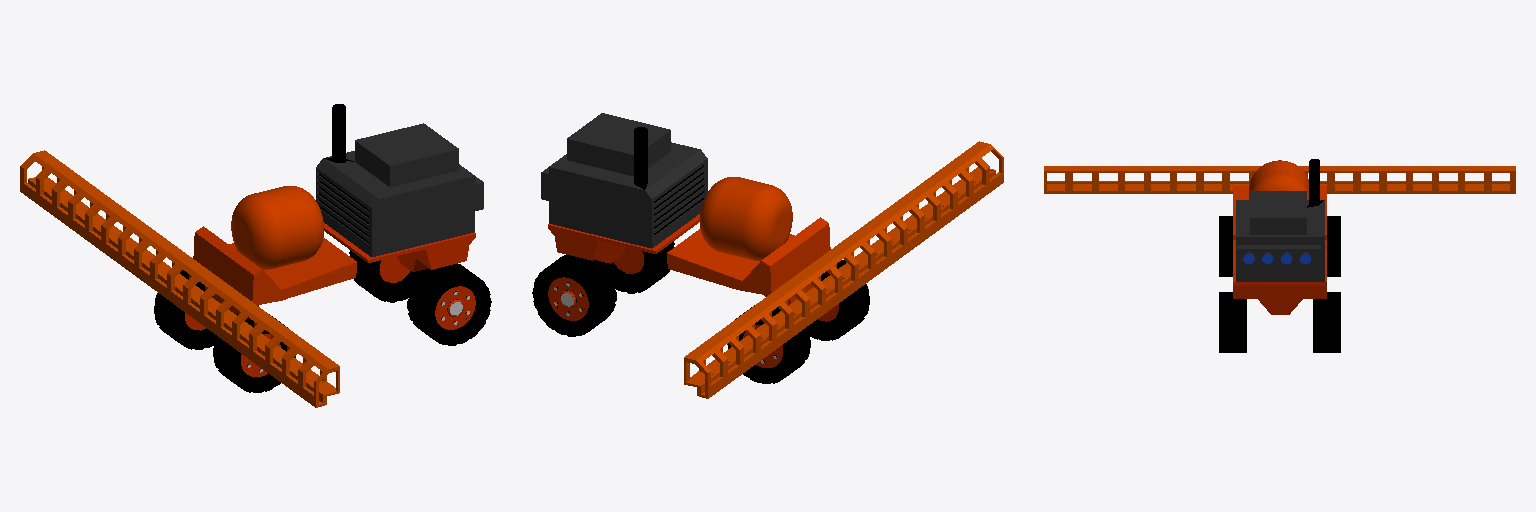
URDF robot description (swarm_farm):
<?xml version="1.0" ?>
<robot name="swarm_farm">
  <!--Generated by CROSS, a ROS Workbench for FreeCAD (https://github.com/galou/freecad.cross)-->
  <link name="front_chassis_link">
    <visual>
      <!--front_chassis_part/Body.-->
      <origin rpy="0.0 -0.0 0.0" xyz="0.0 0.0 0.0"/>
      <geometry>
        <mesh filename="package://swarmfarm/meshes/swarmfarmv2_front_chassis_body.dae"/>
      </geometry>
    </visual>
    <collision>
      <!--front_chassis_part/Body.-->
      <origin rpy="0.0 -0.0 0.0" xyz="0.0 0.0 0.0"/>
      <geometry>
        <mesh filename="package://swarmfarm/meshes/swarmfarmv2_front_chassis_body.dae"/>
      </geometry>
    </collision>
    <inertial>
      <mass value="0.0"/>
      <origin rpy="0.0 -0.0 0.0" xyz="0.0 0.0 0.0"/>
      <inertia ixx="0.0" ixy="0.0" ixz="0.0" iyy="0.0" iyz="0.0" izz="0.0"/>
    </inertial>
  </link>
  <link name="back_chassis_link">
    <visual>
      <!--back_chassis_part/Body001.-->
      <origin rpy="0.0 -0.0 0.0" xyz="0.0 0.0 0.0"/>
      <geometry>
        <mesh filename="package://swarmfarm/meshes/swarmfarmv2_back_chassis_body.dae"/>
      </geometry>
    </visual>
    <visual>
      <!--back_chassis_part/Body003.-->
      <origin rpy="0.0 -0.0 0.0" xyz="0.0 0.0 0.0"/>
      <geometry>
        <mesh filename="package://swarmfarm/meshes/swarmfarmv2_spray_liquid.dae"/>
      </geometry>
    </visual>
    <visual>
      <!--back_chassis_part/Body004.-->
      <origin rpy="0.0 -0.0 0.0" xyz="0.0 0.0 0.0"/>
      <geometry>
        <mesh filename="package://swarmfarm/meshes/swarmfarmv2_spray_boom.dae"/>
      </geometry>
    </visual>
    <visual>
      <!--back_chassis_part/Body005.-->
      <origin rpy="0.0 -0.0 0.0" xyz="0.0 0.0 0.0"/>
      <geometry>
        <mesh filename="package://swarmfarm/meshes/swarmfarmv2_Body.dae"/>
      </geometry>
    </visual>
    <collision>
      <!--back_chassis_part/Body001.-->
      <origin rpy="0.0 -0.0 0.0" xyz="0.0 0.0 0.0"/>
      <geometry>
        <mesh filename="package://swarmfarm/meshes/swarmfarmv2_back_chassis_body.dae"/>
      </geometry>
    </collision>
    <collision>
      <!--back_chassis_part/Body003.-->
      <origin rpy="0.0 -0.0 0.0" xyz="0.0 0.0 0.0"/>
      <geometry>
        <mesh filename="package://swarmfarm/meshes/swarmfarmv2_spray_liquid.dae"/>
      </geometry>
    </collision>
    <collision>
      <!--back_chassis_part/Body004.-->
      <origin rpy="0.0 -0.0 0.0" xyz="0.0 0.0 0.0"/>
      <geometry>
        <mesh filename="package://swarmfarm/meshes/swarmfarmv2_spray_boom.dae"/>
      </geometry>
    </collision>
    <collision>
      <!--back_chassis_part/Body005.-->
      <origin rpy="0.0 -0.0 0.0" xyz="0.0 0.0 0.0"/>
      <geometry>
        <mesh filename="package://swarmfarm/meshes/swarmfarmv2_Body.dae"/>
      </geometry>
    </collision>
    <inertial>
      <mass value="0.0"/>
      <origin rpy="0.0 -0.0 0.0" xyz="0.0 0.0 0.0"/>
      <inertia ixx="0.0" ixy="0.0" ixz="0.0" iyy="0.0" iyz="0.0" izz="0.0"/>
    </inertial>
  </link>
  <link name="front_right_wheel_link">
    <visual>
      <!--wheel_part/Body002.-->
      <origin rpy="0.0 -0.0 3.14" xyz="0.0 0.0 0.0"/>
      <geometry>
        <mesh filename="package://swarmfarm/meshes/swarmfarmv2_wheel_body.dae"/>
      </geometry>
    </visual>
    <collision>
      <!--wheel_part/Body002.-->
      <origin rpy="0.0 -0.0 0.0" xyz="0.0 0.0 0.0"/>
      <geometry>
        <mesh filename="package://swarmfarm/meshes/swarmfarmv2_wheel_body.dae"/>
      </geometry>
    </collision>
    <inertial>
      <mass value="0.0"/>
      <origin rpy="0.0 -0.0 0.0" xyz="0.0 0.0 0.0"/>
      <inertia ixx="0.0" ixy="0.0" ixz="0.0" iyy="0.0" iyz="0.0" izz="0.0"/>
    </inertial>
  </link>
  <link name="front_left_wheel_link">
    <visual>
      <!--wheel_part/Body002.-->
      <origin rpy="0.0 -0.0 0" xyz="0.0 0.0 0.0"/>
      <geometry>
        <mesh filename="package://swarmfarm/meshes/swarmfarmv2_wheel_body.dae"/>
      </geometry>
    </visual>
    <collision>
      <!--wheel_part/Body002.-->
      <origin rpy="0.0 -0.0 0.0" xyz="0.0 0.0 0.0"/>
      <geometry>
        <mesh filename="package://swarmfarm/meshes/swarmfarmv2_wheel_body.dae"/>
      </geometry>
    </collision>
    <inertial>
      <mass value="0.0"/>
      <origin rpy="0.0 -0.0 0.0" xyz="0.0 0.0 0.0"/>
      <inertia ixx="0.0" ixy="0.0" ixz="0.0" iyy="0.0" iyz="0.0" izz="0.0"/>
    </inertial>
  </link>
  <link name="back_right_wheel_link">
    <visual>
      <!--wheel_part/Body002.-->
      <origin rpy="0.0 -0.0 3.14" xyz="0.0 0.0 0.0"/>
      <geometry>
        <mesh filename="package://swarmfarm/meshes/swarmfarmv2_wheel_body.dae"/>
      </geometry>
    </visual>
    <collision>
      <!--wheel_part/Body002.-->
      <origin rpy="0.0 -0.0 0.0" xyz="0.0 0.0 0.0"/>
      <geometry>
        <mesh filename="package://swarmfarm/meshes/swarmfarmv2_wheel_body.dae"/>
      </geometry>
    </collision>
    <inertial>
      <mass value="0.0"/>
      <origin rpy="0.0 -0.0 0.0" xyz="0.0 0.0 0.0"/>
      <inertia ixx="0.0" ixy="0.0" ixz="0.0" iyy="0.0" iyz="0.0" izz="0.0"/>
    </inertial>
  </link>
  <link name="back_left_wheel_link">
    <visual>
      <!--wheel_part/Body002.-->
      <origin rpy="0.0 -0.0 0.0" xyz="0.0 0.0 0.0"/>
      <geometry>
        <mesh filename="package://swarmfarm/meshes/swarmfarmv2_wheel_body.dae"/>
      </geometry>
    </visual>
    <collision>
      <!--wheel_part/Body002.-->
      <origin rpy="0.0 -0.0 0.0" xyz="0.0 0.0 0.0"/>
      <geometry>
        <mesh filename="package://swarmfarm/meshes/swarmfarmv2_wheel_body.dae"/>
      </geometry>
    </collision>
    <inertial>
      <mass value="0.0"/>
      <origin rpy="0.0 -0.0 0.0" xyz="0.0 0.0 0.0"/>
      <inertia ixx="0.0" ixy="0.0" ixz="0.0" iyy="0.0" iyz="0.0" izz="0.0"/>
    </inertial>
  </link>
  <joint name="chassis_joint" type="revolute">
    <parent link="front_chassis_link"/>
    <child link="back_chassis_link"/>
    <origin rpy="0.0 -0.0 0.0" xyz="-1.2 0.0 0.0"/>
    <axis xyz="0 0 1"/>
    <limit effort="10.0" lower="-0.7" upper="+0.7" velocity="10.0"/>
  </joint>
  <joint name="fright_right_wheel_joint" type="continuous">
    <parent link="front_chassis_link"/>
    <child link="front_right_wheel_link"/>
    <origin rpy="0.0 -0.0 0.0" xyz="-0.3 -0.5 0.0"/>
    <axis xyz="0 1 0"/>
  </joint>
  <joint name="back_right_wheel_joint" type="continuous">
    <parent link="back_chassis_link"/>
    <child link="back_right_wheel_link"/>
    <origin rpy="0.0 -0.0 0.0" xyz="-1.0 -0.5 0.0"/>
    <axis xyz="0 1 0"/>
  </joint>
  <joint name="back_left_wheel_joint" type="continuous">
    <parent link="back_chassis_link"/>
    <child link="back_left_wheel_link"/>
    <origin rpy="0.0 -0.0 0.0" xyz="-1.0 0.5 0.0"/>
    <axis xyz="0 1 0"/>
  </joint>
  <joint name="front_left_wheel_joint" type="continuous">
    <parent link="front_chassis_link"/>
    <child link="front_left_wheel_link"/>
    <origin rpy="0.0 -0.0 0.0" xyz="-0.3 0.5 0.0"/>
    <axis xyz="0 1 0"/>
    <limit effort="0.0" lower="0.0" upper="0.0" velocity="0.0"/>
  </joint>
</robot>

--- Render facts (derived) ---
3 views of the same robot in one strip: view 1: azimuth 30°, elevation 25°; view 2: azimuth 150°, elevation 25°; view 3: azimuth 270°, elevation 25° (orthographic).
Model swarm_farm with 6 links and 5 joints (1 revolute, 4 continuous), rooted at front_chassis_link, posed every joint at zero.
Links seen in each view (by area): view 1: back_chassis_link, front_chassis_link, front_right_wheel_link, front_left_wheel_link, back_right_wheel_link, back_left_wheel_link; view 2: back_chassis_link, front_chassis_link, front_left_wheel_link, front_right_wheel_link, back_left_wheel_link, back_right_wheel_link; view 3: back_chassis_link, front_chassis_link, front_right_wheel_link, front_left_wheel_link, back_right_wheel_link, back_left_wheel_link.
Link boxes in pixels (bbox=[...]): back_chassis_link: bbox=[20, 150, 356, 407]; front_chassis_link: bbox=[316, 104, 483, 271]; front_right_wheel_link: bbox=[407, 263, 491, 345]; front_left_wheel_link: bbox=[349, 250, 425, 302]; back_right_wheel_link: bbox=[213, 313, 295, 392]; back_left_wheel_link: bbox=[154, 270, 216, 349]; back_chassis_link: bbox=[667, 141, 1003, 398]; front_chassis_link: bbox=[541, 113, 707, 263]; front_left_wheel_link: bbox=[532, 254, 616, 336]; front_right_wheel_link: bbox=[599, 241, 674, 293]; back_left_wheel_link: bbox=[727, 305, 810, 383]; back_right_wheel_link: bbox=[807, 260, 869, 340]; back_chassis_link: bbox=[1044, 160, 1515, 239]; front_chassis_link: bbox=[1233, 159, 1326, 314]; front_right_wheel_link: bbox=[1219, 292, 1246, 352]; front_left_wheel_link: bbox=[1313, 292, 1340, 352]; back_right_wheel_link: bbox=[1219, 216, 1232, 276]; back_left_wheel_link: bbox=[1327, 216, 1340, 276].
Bounding box of the posed robot: 2.85 × 5 × 1.95 m (x, y, z).
8 mesh visuals loaded from 6 distinct referenced files (5 Collada DAE); not drawn: 1 (file found but could not be loaded).